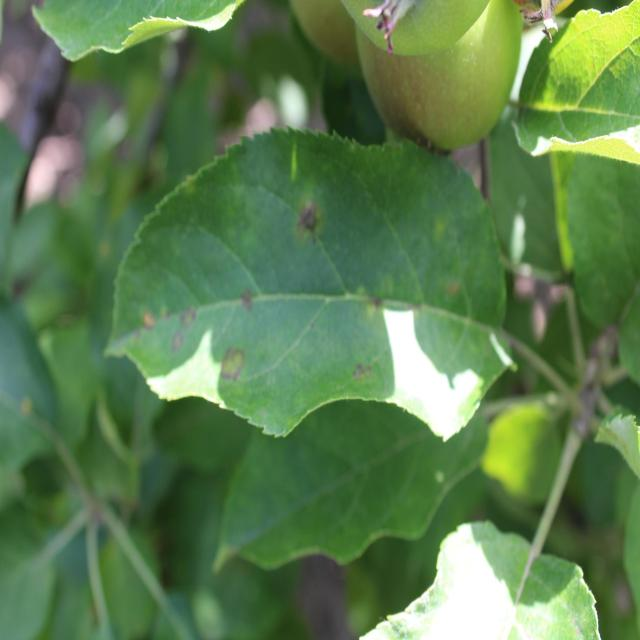Rust: (444, 269, 470, 306), (136, 307, 160, 336)
scab: (117, 174, 501, 417)
